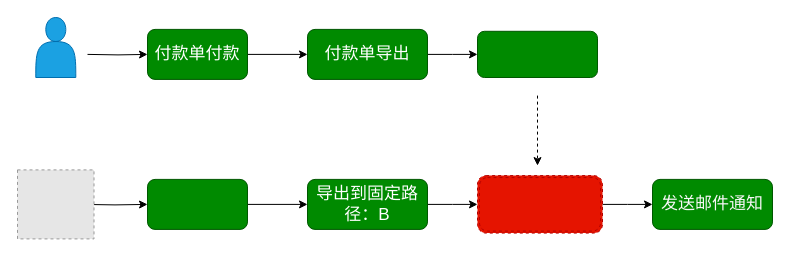
Image size: 790x257. Some labels were removed from this diagram. Grey dashed boxes stand in for pictures. Each missing label, with the centre of its shape:
"导出到固定路径：A" goes at pixel 537 54.
"调用C#插件" goes at pixel 539 204.
"银行付款结果导出" goes at pixel 197 203.
